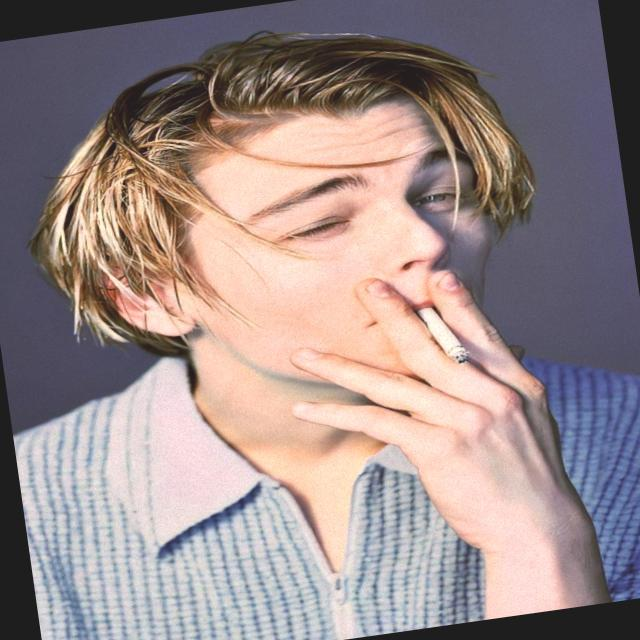smoke: (394, 284, 490, 391)
